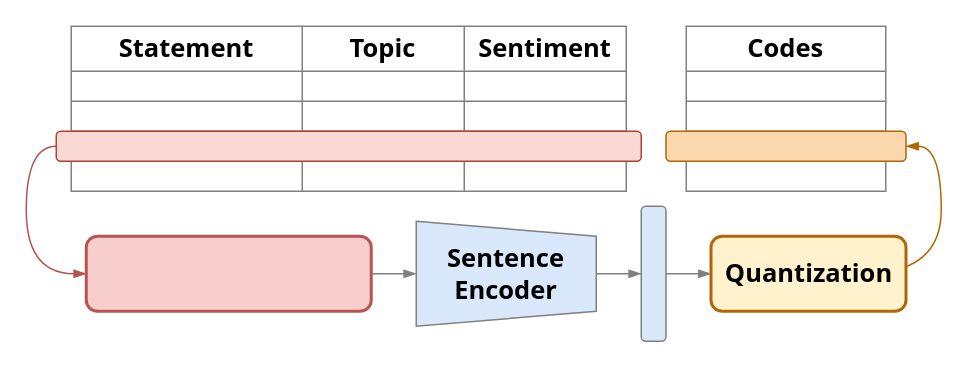
The diagram is 968 pixels wide and 368 high, and some of its shapes have lost their labels. Each missing label, with the centre of its shape:
"Embedding" belongs at (653,273).
"Statement-Topic-Sentiment input" belongs at (228,273).
